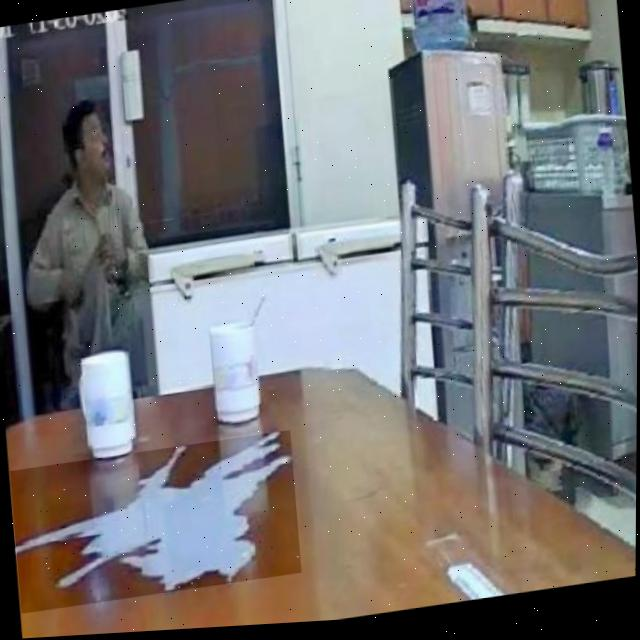spillage: (15, 435, 292, 594)
